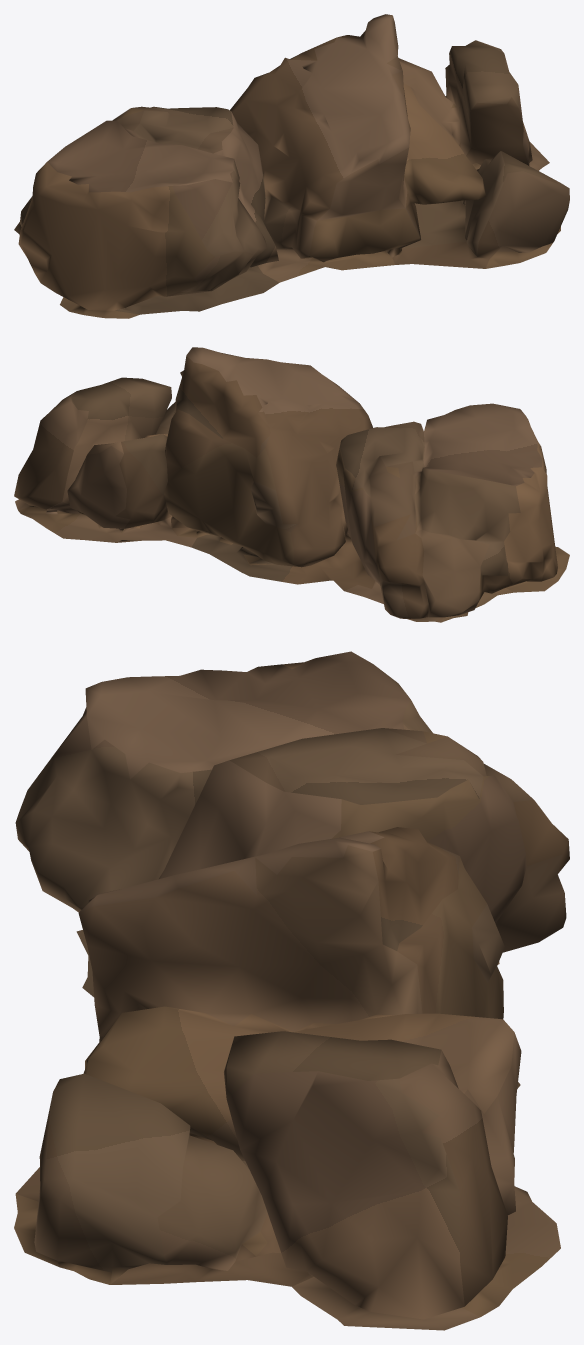
File: ph_boulder_1.glb
3 renders of one model, top to bottom at view 1: azimuth 30°, elevation 25°; view 2: azimuth 150°, elevation 25°; view 3: azimuth 270°, elevation 25°, orthographic. The views are drawn at different scales.
Visible parts, largest first — view 1: ph_boulder_1_lod1; view 2: ph_boulder_1_lod1; view 3: ph_boulder_1_lod1.
Part boxes in pixels (box(x1,y1,x2,y2)): ph_boulder_1_lod1: box(14, 14, 569, 318); ph_boulder_1_lod1: box(14, 347, 569, 622); ph_boulder_1_lod1: box(14, 651, 569, 1330).
Bounding box in the file's own units: 2.52 × 0.874 × 1.23.
Materials: 1 (1 with a texture image).
